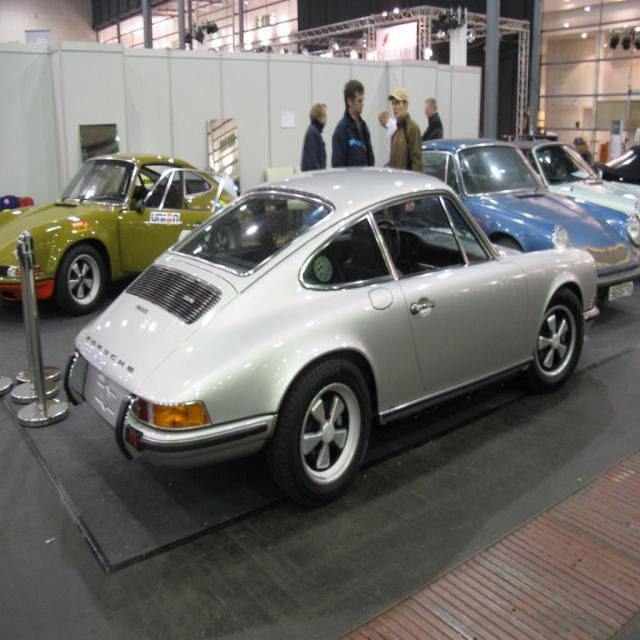car: (60, 159, 619, 504)
